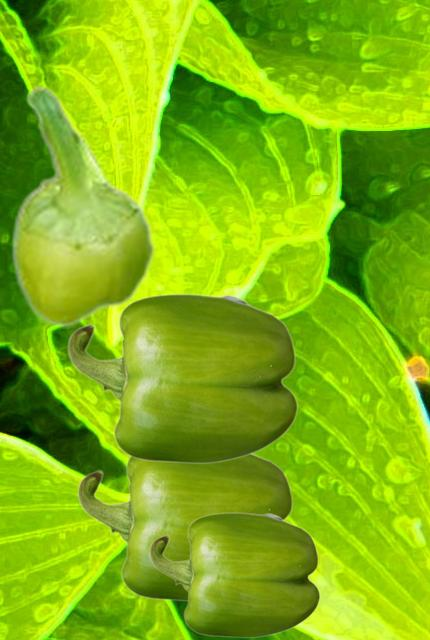bell_pepper: (67, 293, 297, 463), (10, 86, 155, 327), (77, 454, 293, 601), (149, 512, 319, 637)
